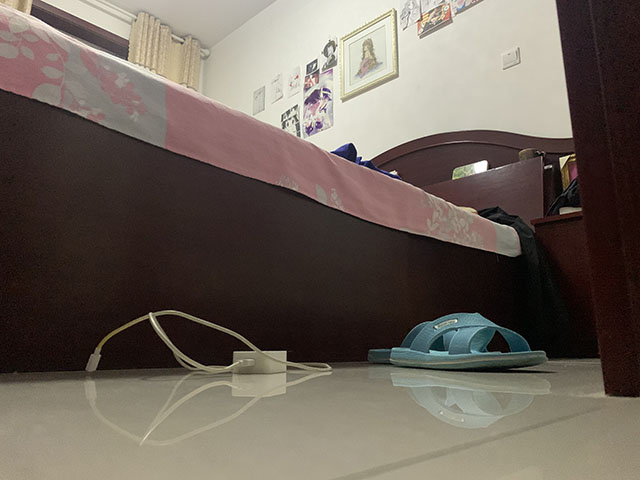bed: (1, 1, 583, 371)
cabinet: (529, 209, 598, 358)
slippers: (366, 311, 547, 371)
wire: (84, 309, 333, 374)
